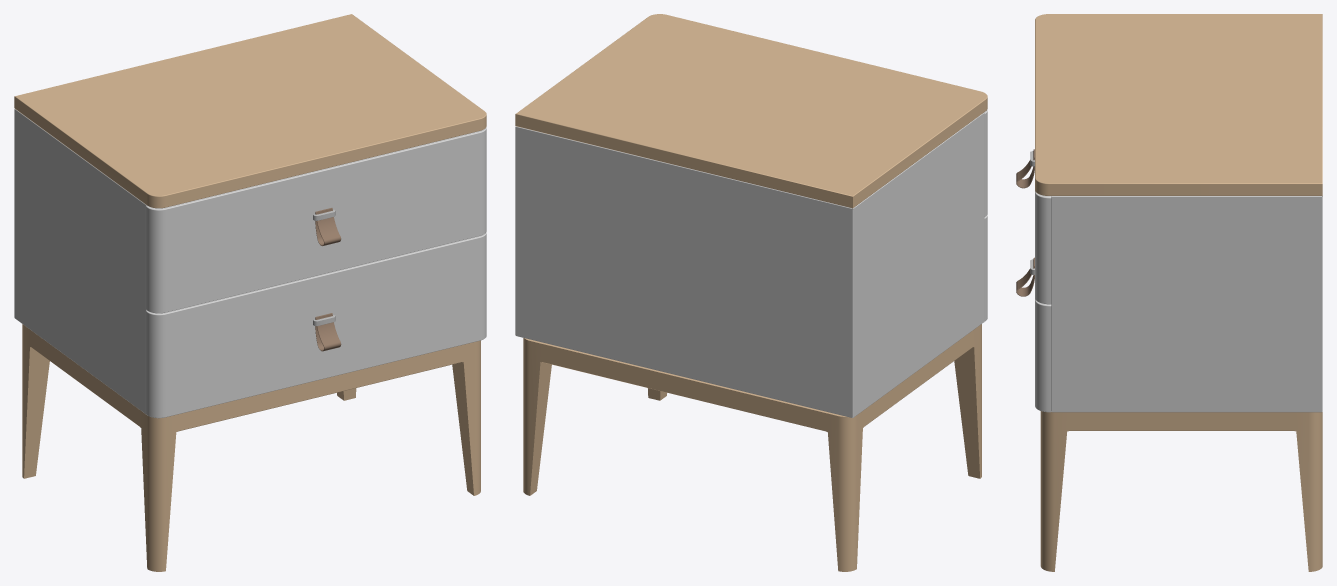
Rendered from mesa-de-cabeceira-saperavi.glb.
The picture shows the model from 3 angles, left to right: view 1: azimuth 30°, elevation 25°; view 2: azimuth 150°, elevation 25°; view 3: azimuth 270°, elevation 25°; orthographic projection. The views are drawn at different scales.
Bounding box in the file's own units: 0.5698 × 0.6101 × 0.4348.
